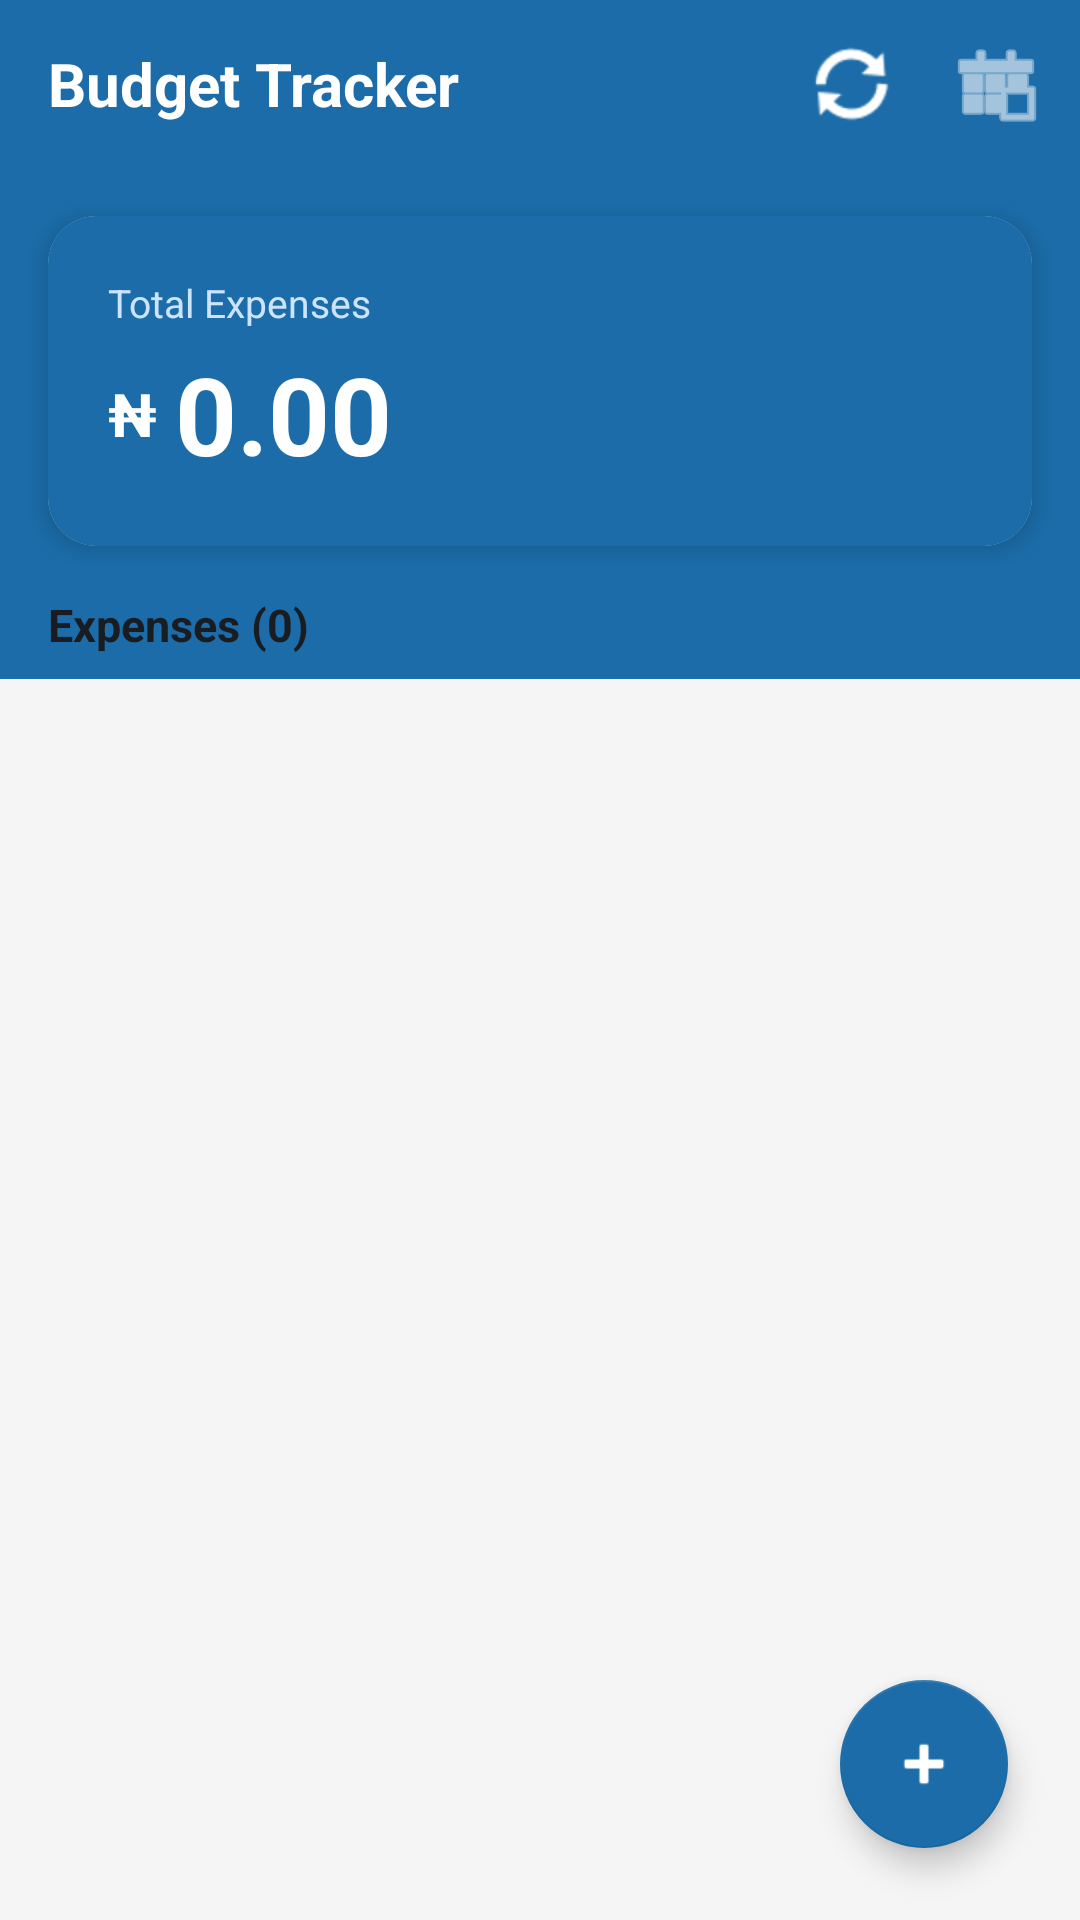

Named icons in this screenshot (1080px x 1920px) and their centers, (x,y):
Add expense: (924,1764)
Filter Month: (997,85)
Sync: (852,84)
